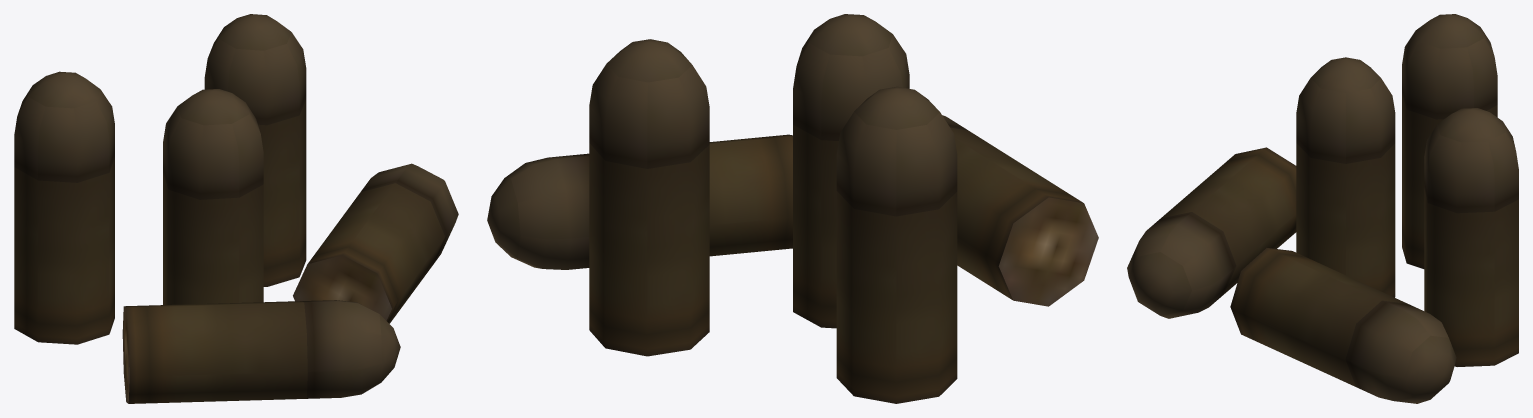
Rendered from ammo_pistol_loose_5pcs_mp_1.fbx.
3 views of the same model, side by side, from view 1: azimuth 30°, elevation 25°; view 2: azimuth 150°, elevation 25°; view 3: azimuth 270°, elevation 25° (orthographic). The views are drawn at different scales.
Parts seen in each view (by area): view 1: ammo_pistol_loose_5pcs_mp_1; view 2: ammo_pistol_loose_5pcs_mp_1; view 3: ammo_pistol_loose_5pcs_mp_1.
Part boxes in pixels (x1=…): ammo_pistol_loose_5pcs_mp_1: x1=14, y1=14, x2=458, y2=403; ammo_pistol_loose_5pcs_mp_1: x1=487, y1=14, x2=1098, y2=403; ammo_pistol_loose_5pcs_mp_1: x1=1127, y1=14, x2=1518, y2=403.
Size of the model in its own units: 0.0651 by 0.037 by 0.0554.
1 material, 1 textured.
